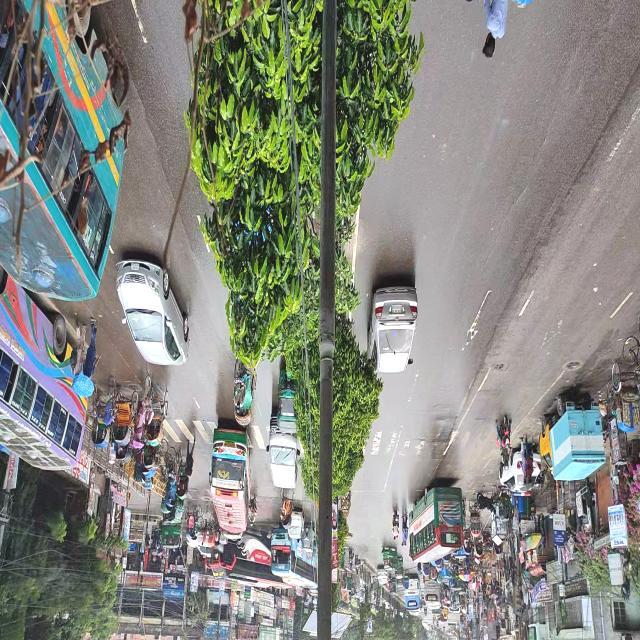silver: (115, 258, 189, 366), (366, 281, 416, 374), (268, 414, 296, 488)
